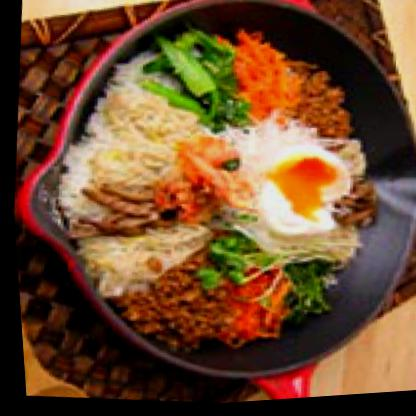bibimbap: (48, 14, 393, 369)
